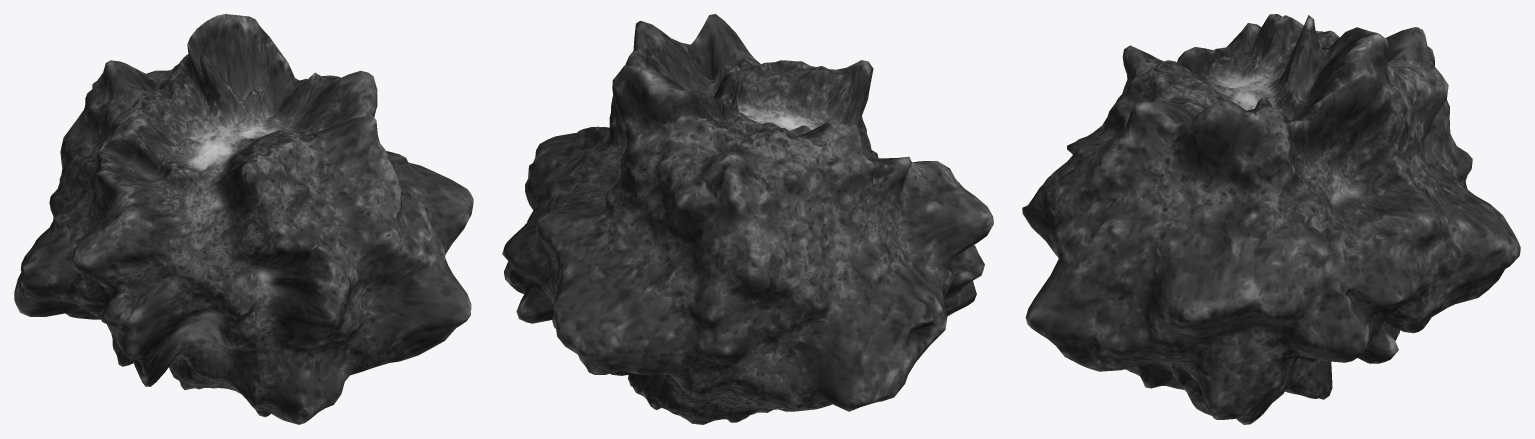
File: Asteroid_01_Medium.FBX
3 views of the same model, side by side, from view 1: azimuth 30°, elevation 25°; view 2: azimuth 150°, elevation 25°; view 3: azimuth 270°, elevation 25° (orthographic). The views are drawn at different scales.
Parts seen in each view (by area): view 1: Asteroid_01_Medium; view 2: Asteroid_01_Medium; view 3: Asteroid_01_Medium.
Boxes of the visible parts, x1,y1,x2,y2 form: Asteroid_01_Medium: (14, 14, 473, 424); Asteroid_01_Medium: (502, 14, 993, 424); Asteroid_01_Medium: (1022, 14, 1520, 424).
Size of the model in its own units: 8.88 by 7.29 by 8.49.
1 material, 1 textured.
